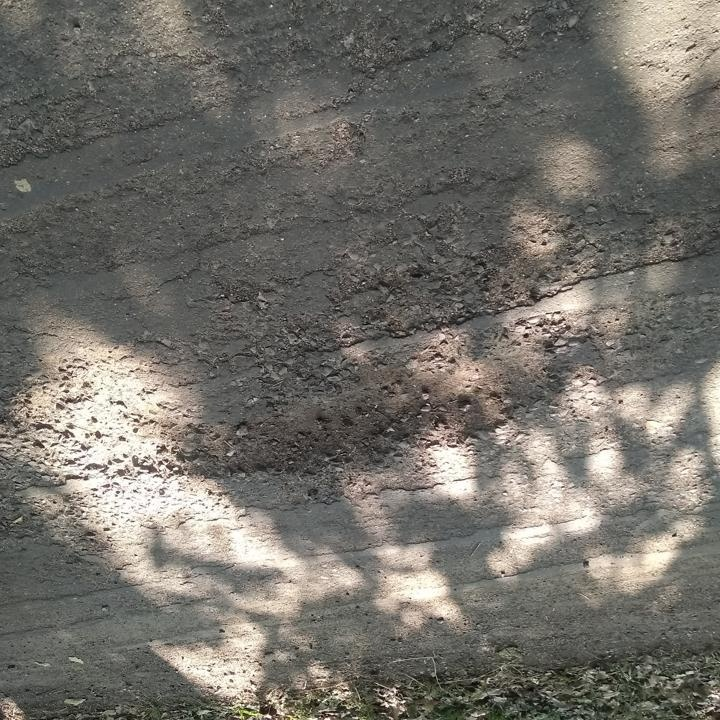pothole: (145, 328, 564, 486)
